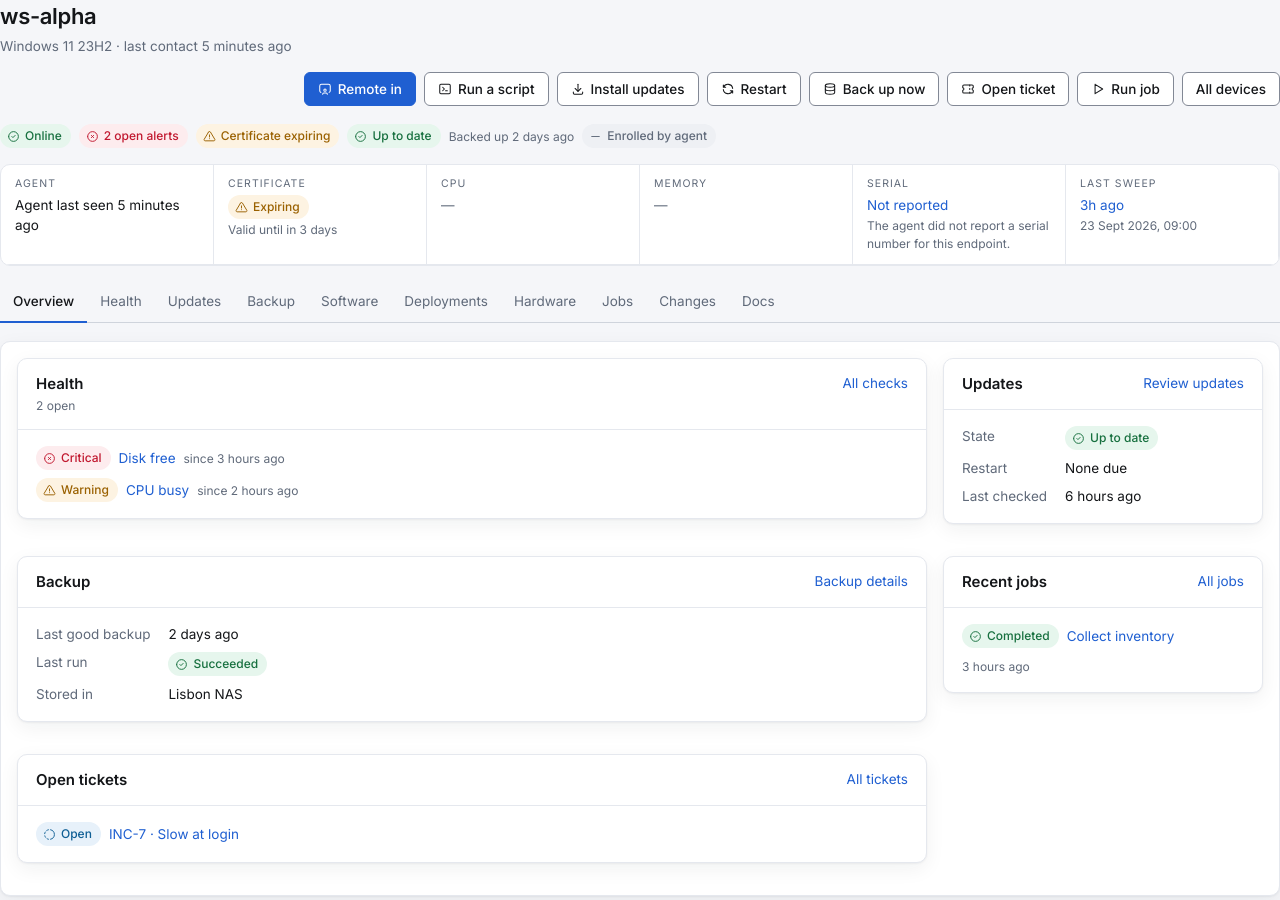
Test: the actions › books a restart for the maintenance window, saying when in the org's zone and that a user is warned
The width and height of the screenshot is (1280, 900).
Click the button "Restart" at (754,89), box [706,72,801,106]
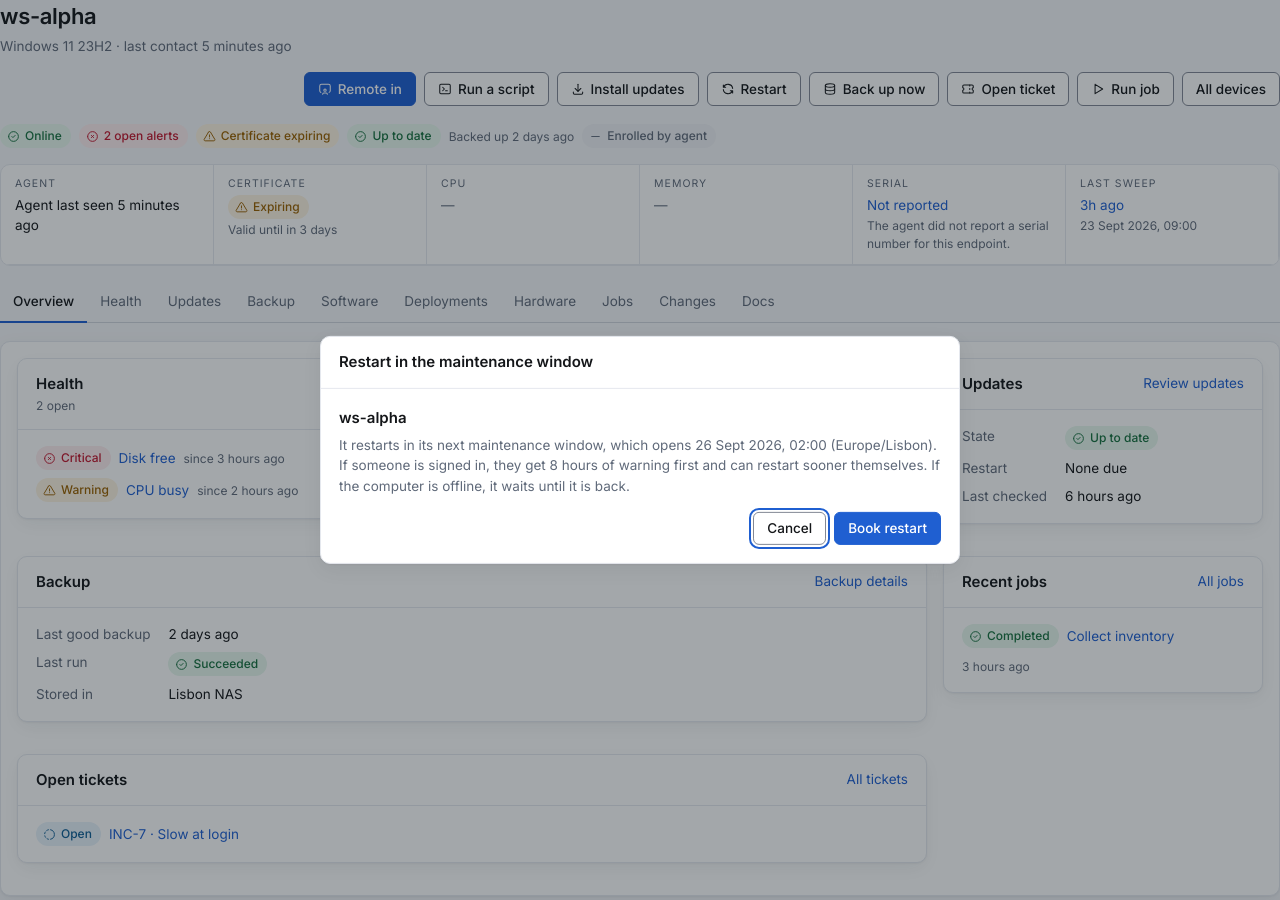
expect the dialog "Restart in the maintenance window" shows "which opens 26 Sept 2026, 02:00 (Europe/Lisbon)": met, box [339,437,940,493]
expect the dialog "Restart in the maintenance window" shows "If someone is signed in, they get 8 hours of warning first": met, box [339,437,940,493]
Click the button "Book restart" at (888,528), box [834,512,941,545]
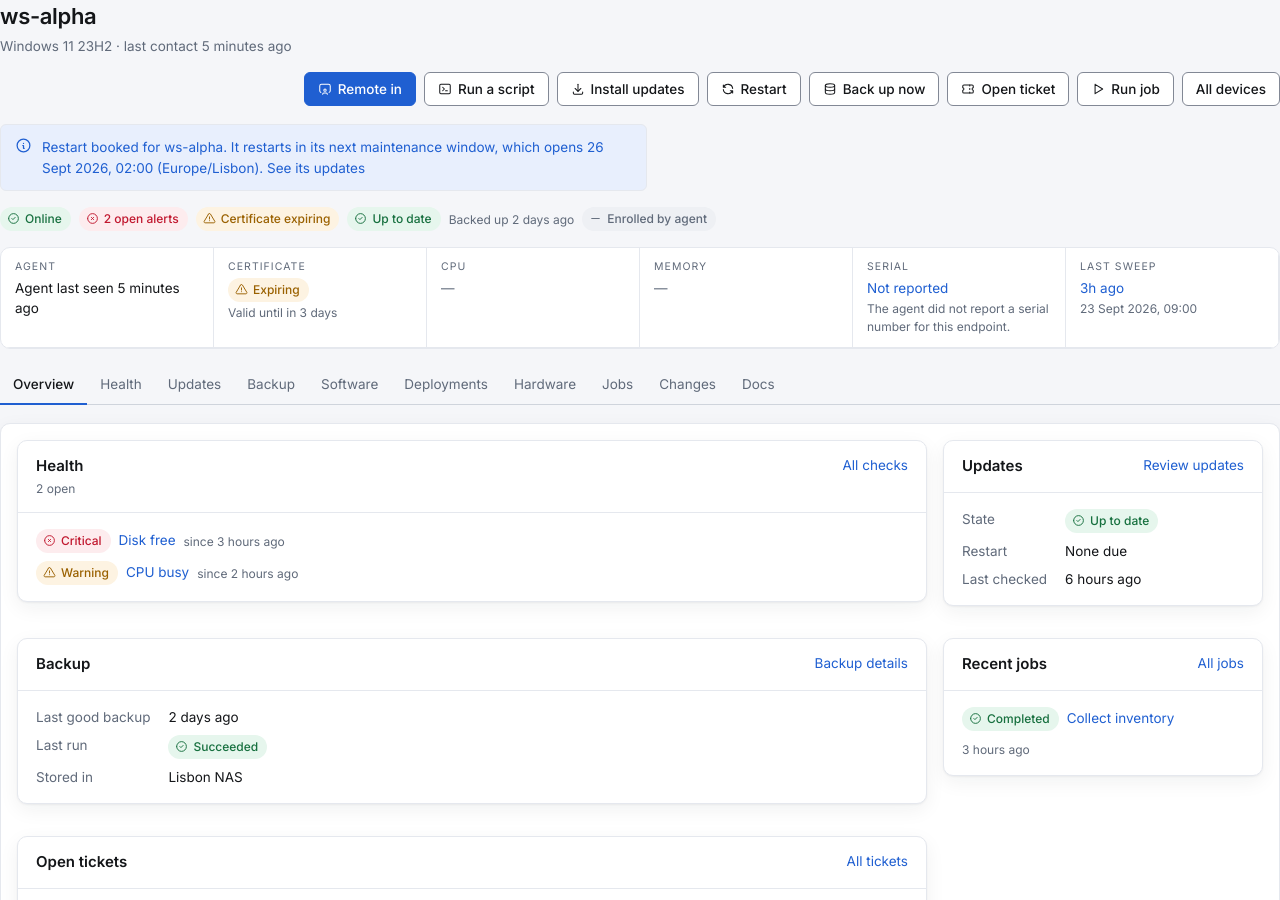
expect the message shows "Restart booked for ws-alpha.": met, box [42,139,604,176]
